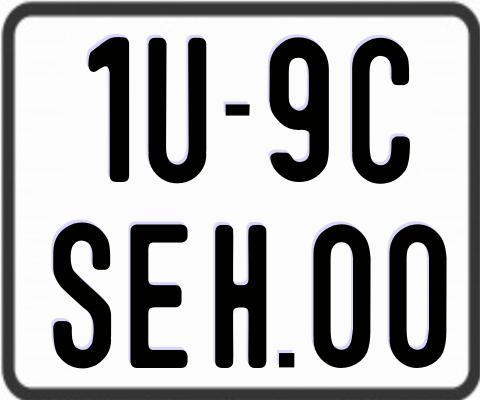0: (311, 224, 374, 370), (387, 224, 445, 374)
1: (86, 34, 132, 181)
9: (267, 34, 329, 180)
C: (349, 35, 409, 183)
E: (129, 222, 191, 369)
H: (212, 222, 269, 366)
S: (50, 219, 110, 368)
U: (145, 35, 207, 180)
